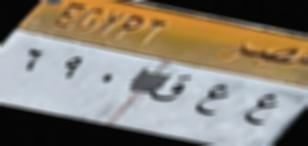0: (97, 68, 123, 91)
6: (19, 46, 48, 75)
9: (58, 51, 90, 83)
ain: (192, 80, 231, 124), (242, 89, 280, 131)
qaaf: (149, 71, 192, 105)
